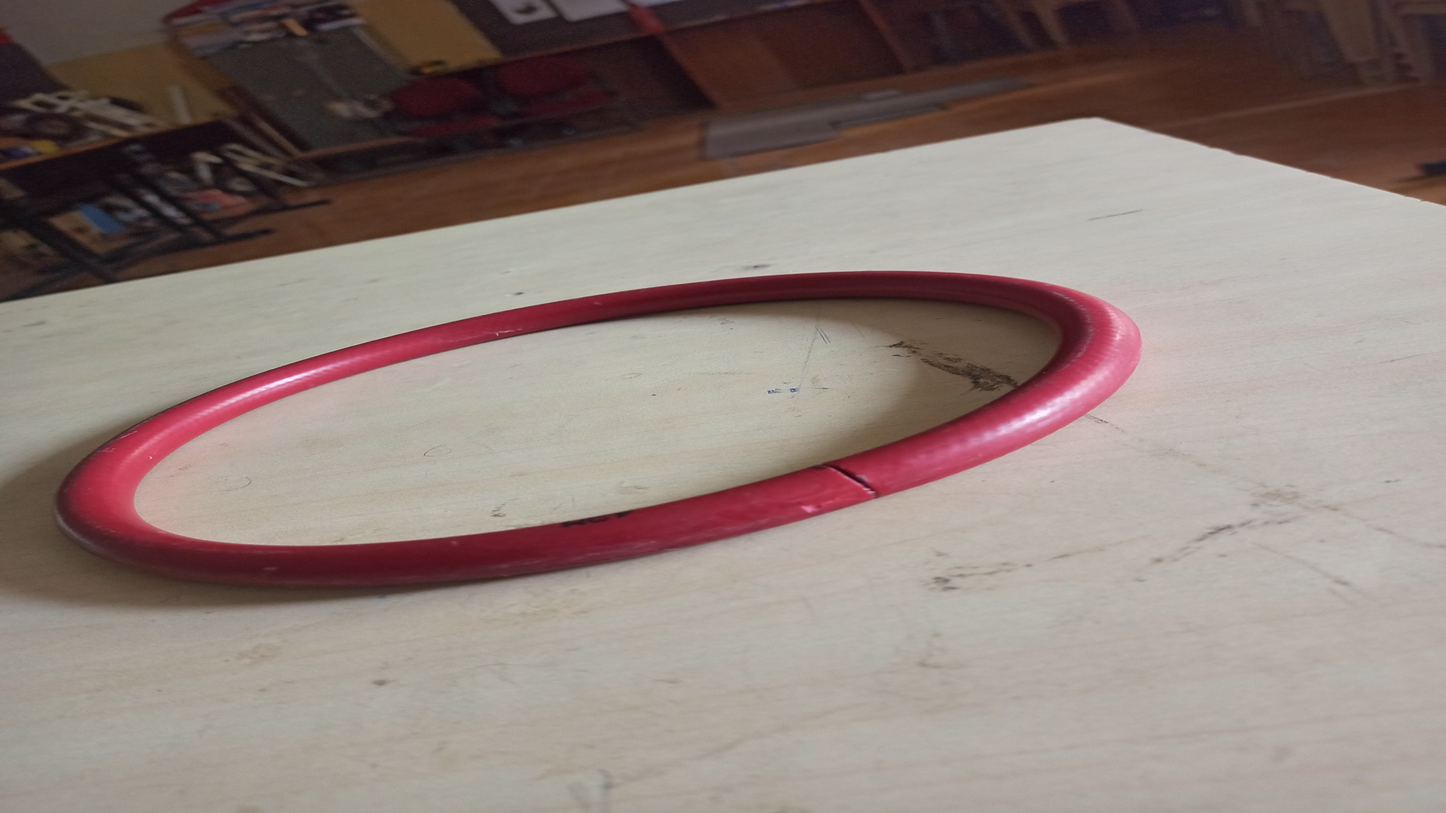Red ring: (53, 272, 1142, 587)
